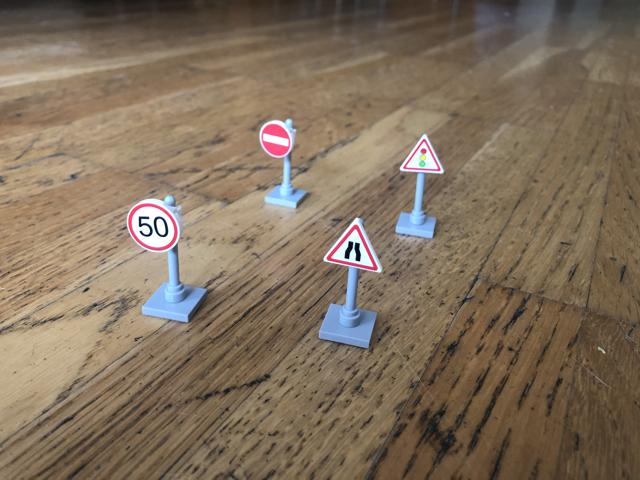lichtzeichenanlage: (398, 134, 449, 176)
tempolimit 50: (128, 200, 179, 253)
verbot der einfahrt: (258, 120, 294, 160)
verengte fahrbahn: (321, 219, 385, 274)
